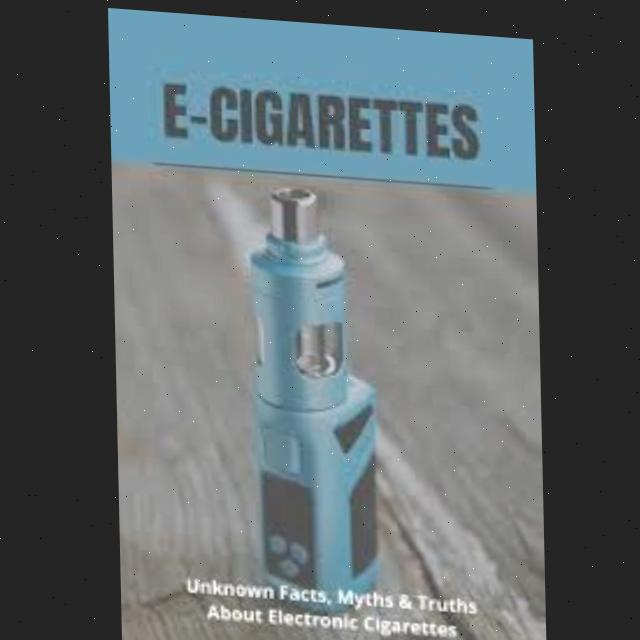vape: (241, 174, 386, 604)
